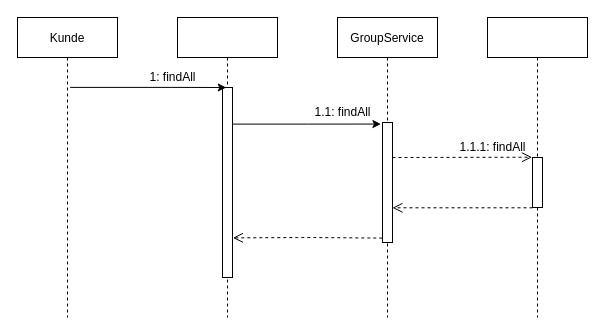
Image size: 605x335. Some labels were removed from this diagram. Here are the shapes that lost their labels. From the top down, the box of each, then its label:
(176, 16, 278, 318): GroupController
(486, 16, 588, 318): GroupServiceImpl
